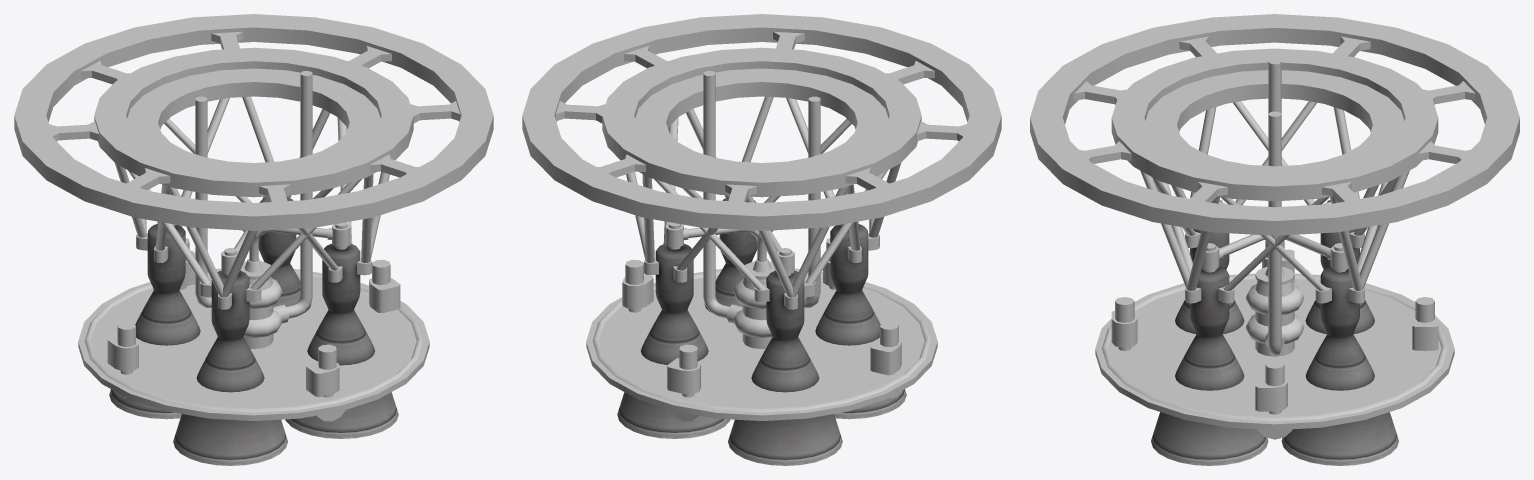
The model's file is tantares_lv_engine_s1p5_3.obj.
The picture shows the model from 3 angles, left to right: view 1: azimuth 30°, elevation 25°; view 2: azimuth 150°, elevation 25°; view 3: azimuth 270°, elevation 25°; orthographic projection. The views are drawn at different scales.
Parts seen in each view (by area): view 1: tantares_lv_engine_s1p5_3, tantares_lv_engine_s1p5_3_nozzles; view 2: tantares_lv_engine_s1p5_3, tantares_lv_engine_s1p5_3_nozzles; view 3: tantares_lv_engine_s1p5_3, tantares_lv_engine_s1p5_3_nozzles.
Boxes of the visible parts, left/top/right/bottom form: tantares_lv_engine_s1p5_3: left=14, top=14, right=493, bottom=421; tantares_lv_engine_s1p5_3_nozzles: left=109, top=197, right=398, bottom=465; tantares_lv_engine_s1p5_3: left=522, top=14, right=1001, bottom=421; tantares_lv_engine_s1p5_3_nozzles: left=617, top=197, right=906, bottom=465; tantares_lv_engine_s1p5_3: left=1030, top=14, right=1519, bottom=439; tantares_lv_engine_s1p5_3_nozzles: left=1151, top=229, right=1398, bottom=465.
Size of the model in its own units: 1.88 by 1.38 by 1.88.
